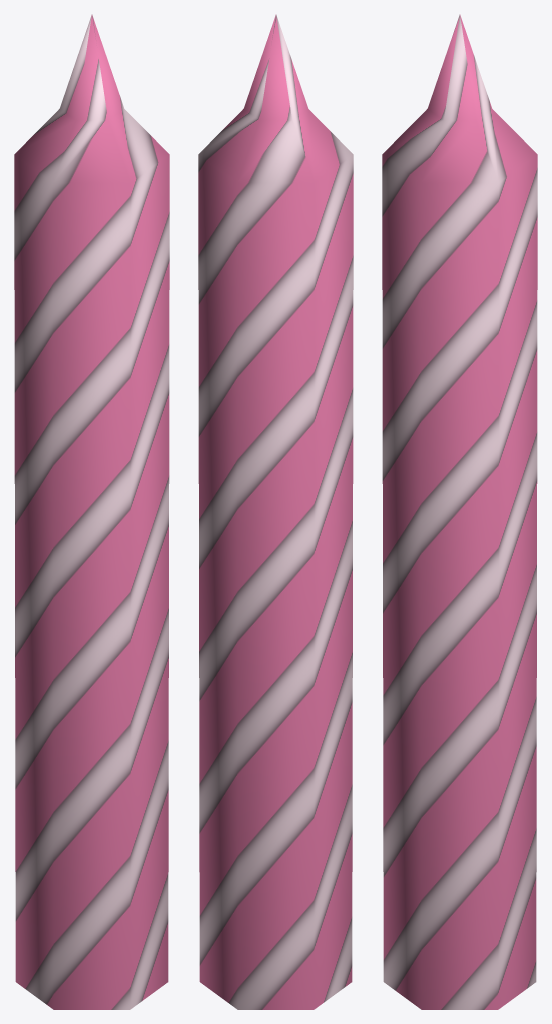
File: candle.FBX
3 renders of one model, left to right at view 1: azimuth 30°, elevation 25°; view 2: azimuth 150°, elevation 25°; view 3: azimuth 270°, elevation 25°, orthographic.
Parts seen in each view (by area): view 1: cake candle; view 2: cake candle; view 3: cake candle.
Boxes of the visible parts, <box> form: cake candle: <box>14,14,169,1009</box>; cake candle: <box>198,14,353,1009</box>; cake candle: <box>382,14,537,1009</box>.
Size of the model in its own units: 0.0116 by 0.0134 by 0.0919.
